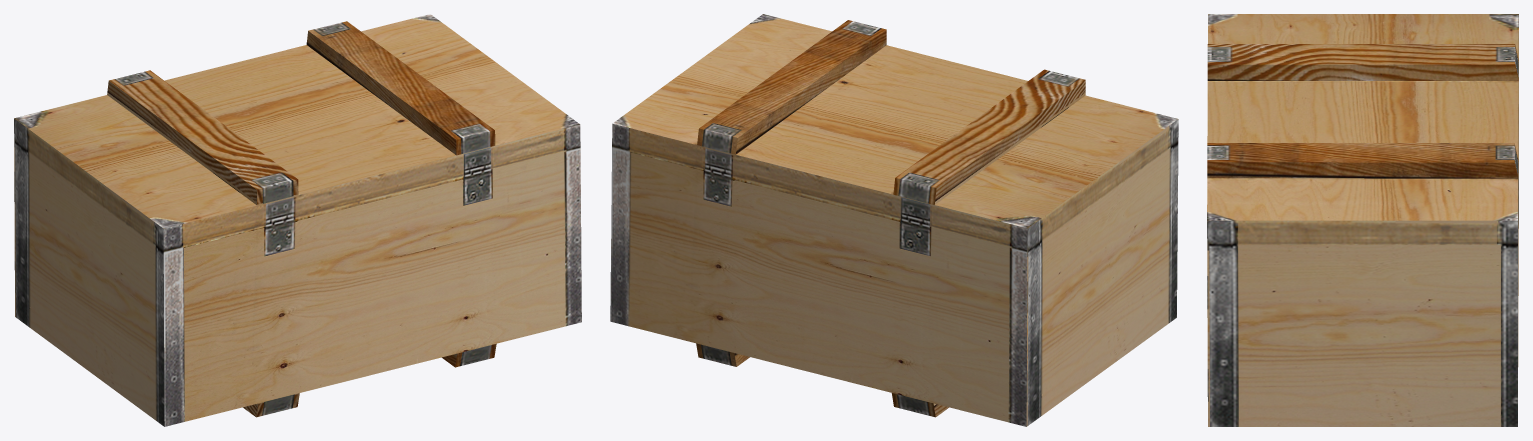
Rendered from Crate_Box.FBX.
3 renders of one model, left to right at view 1: azimuth 30°, elevation 25°; view 2: azimuth 150°, elevation 25°; view 3: azimuth 270°, elevation 25°, orthographic. The views are drawn at different scales.
Visible parts, largest first — view 1: Crate_Box; view 2: Crate_Box; view 3: Crate_Box.
Boxes of the visible parts, bbox=[...] form: Crate_Box: bbox=[14, 14, 581, 426]; Crate_Box: bbox=[610, 14, 1178, 426]; Crate_Box: bbox=[1207, 14, 1518, 426].
Size of the model in its own units: 2.41 by 1.28 by 1.5.
